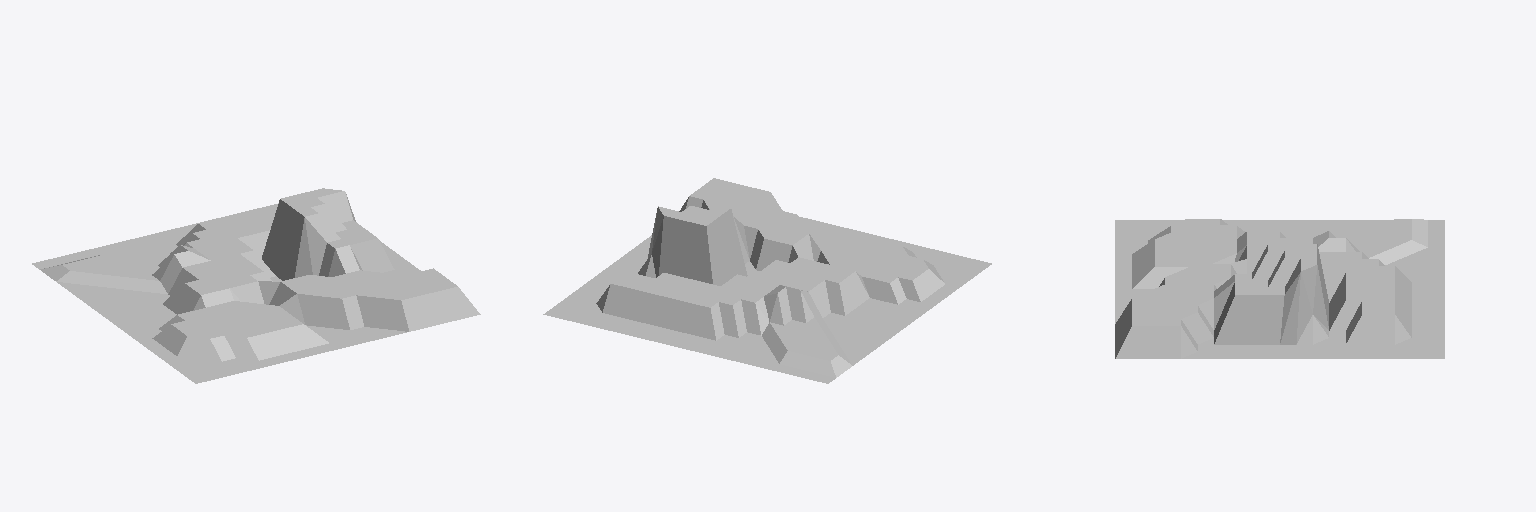
The model's file is shapes.obj.
3 views of the same model, side by side, from view 1: azimuth 30°, elevation 25°; view 2: azimuth 150°, elevation 25°; view 3: azimuth 270°, elevation 25° (orthographic).
Parts seen in each view (by area): view 1: Plane; view 2: Plane; view 3: Plane.
Part boxes in pixels (x1,y1,x2,y2): Plane: (32,188,480,383); Plane: (543,178,991,383); Plane: (1115,219,1444,358).
Size of the model in its own units: 400 by 88.9 by 400.